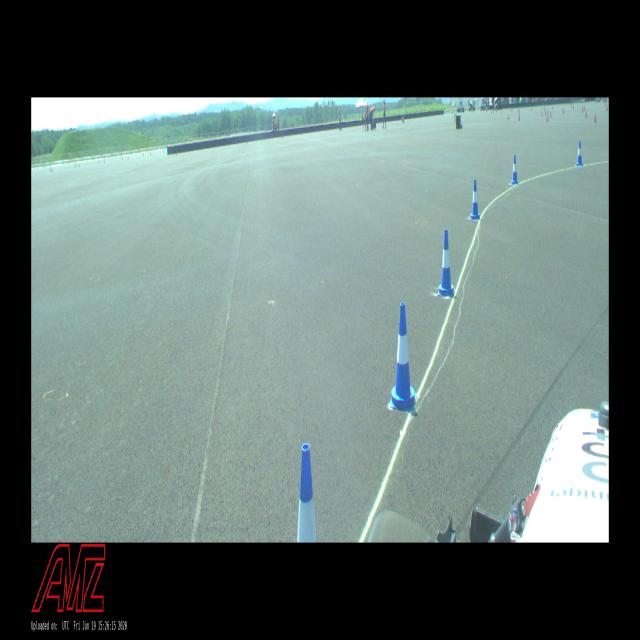blue_cone: (389, 302, 417, 410), (297, 443, 317, 542), (438, 229, 455, 297), (469, 179, 480, 220), (511, 155, 518, 184), (576, 140, 583, 166)
unknown_cone: (594, 111, 596, 123), (585, 109, 587, 118)
